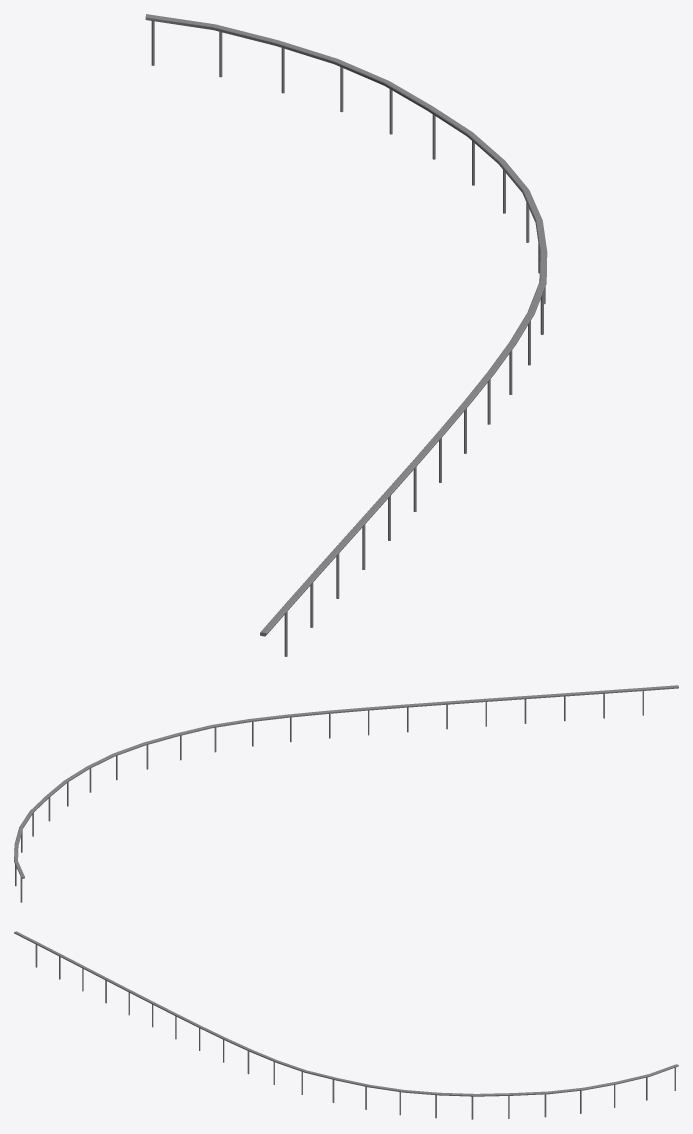
File: SM_Handrail_01_Splines_24.fbx
3 renders of one model, top to bottom at view 1: azimuth 30°, elevation 25°; view 2: azimuth 150°, elevation 25°; view 3: azimuth 270°, elevation 25°, orthographic. The views are drawn at different scales.
Parts seen in each view (by area): view 1: SM_Handrail_01_Splines_24; view 2: SM_Handrail_01_Splines_24; view 3: SM_Handrail_01_Splines_24.
Part boxes in pixels (box(x1,y1,x2,y2)): SM_Handrail_01_Splines_24: box(145, 14, 547, 656); SM_Handrail_01_Splines_24: box(14, 685, 678, 902); SM_Handrail_01_Splines_24: box(14, 931, 678, 1119).
Bounding box in the file's own units: 1062 × 1818 × 74.99.
